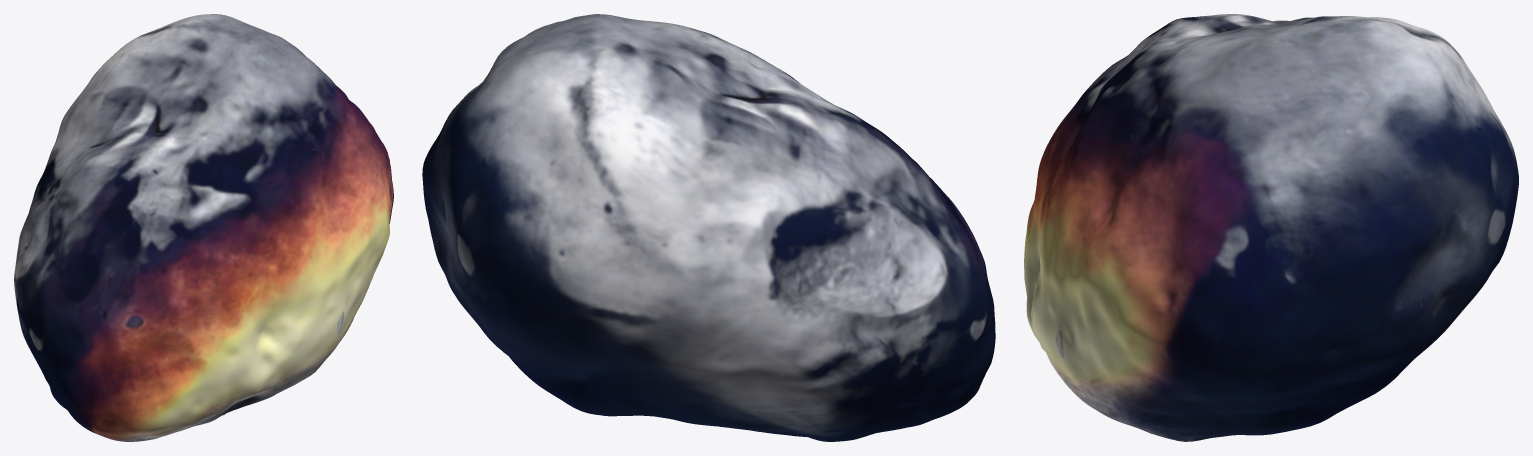
The model's file is Florence.gltf.
3 renders of one model, left to right at view 1: azimuth 30°, elevation 25°; view 2: azimuth 150°, elevation 25°; view 3: azimuth 270°, elevation 25°, orthographic. The views are drawn at different scales.
Visible parts, largest first — view 1: Florence; view 2: Florence; view 3: Florence.
Boxes of the visible parts, bbox=[...] form: Florence: bbox=[14, 14, 393, 441]; Florence: bbox=[422, 14, 995, 441]; Florence: bbox=[1024, 14, 1518, 441].
Size of the model in its own units: 2 by 1.63 by 1.72.
1 material, 1 textured.
